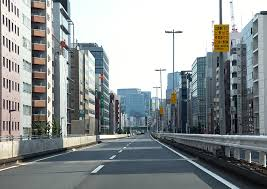strada: (3, 135, 248, 188)
